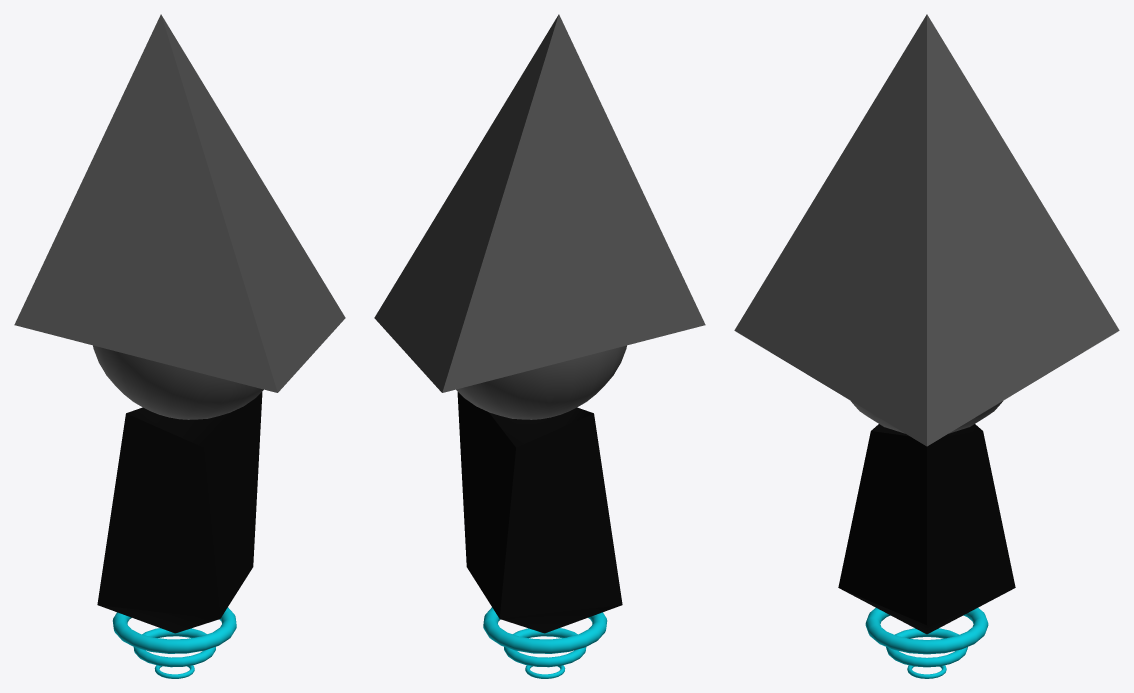
The model's file is playerCharacter.fbx.
3 renders of one model, left to right at view 1: azimuth 30°, elevation 25°; view 2: azimuth 150°, elevation 25°; view 3: azimuth 270°, elevation 25°, orthographic.
Parts seen in each view (by area): view 1: pCone1, pCube1, pSphere3, pTorus1, pTorus2; view 2: pCone1, pCube1, pSphere3, pTorus1, pTorus2; view 3: pCone1, pCube1, pTorus1, pTorus2.
Part boxes in pixels (x1,y1,x2,y2): pCone1: [14, 14, 345, 392]; pCube1: [97, 392, 262, 633]; pSphere3: [93, 345, 263, 419]; pTorus1: [112, 607, 236, 653]; pTorus2: [133, 628, 215, 667]; pCone1: [374, 14, 705, 392]; pCube1: [457, 392, 622, 633]; pSphere3: [456, 345, 626, 419]; pTorus1: [483, 607, 607, 653]; pTorus2: [504, 628, 586, 667]; pCone1: [734, 14, 1119, 446]; pCube1: [838, 424, 1015, 634]; pTorus1: [865, 608, 988, 654]; pTorus2: [886, 628, 967, 667].
Size of the model in its own units: 2.93 by 5.58 by 2.99.
